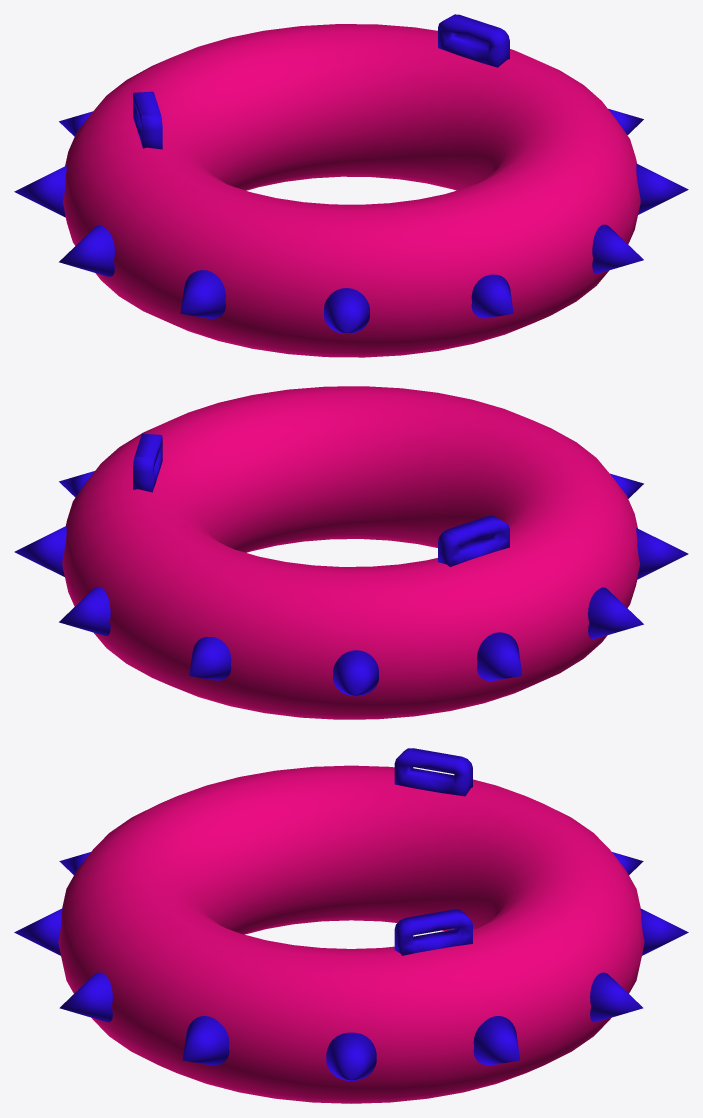
File: Boat.fbx
3 renders of one model, top to bottom at view 1: azimuth 30°, elevation 25°; view 2: azimuth 150°, elevation 25°; view 3: azimuth 270°, elevation 25°, orthographic.
Visible parts, largest first — view 1: Boat, Cube, Cone.001, Cone, Cone.002, Cone.009, Cone.011, Cube.001, Cone.003, Cone.008; view 2: Boat, Cube.001, Cone.003, Cone, Cone.004, Cone.005, Cone.010, Cube, Cone.001, Cone.006; view 3: Boat, Cube.001, Cube, Cone.007, Cone.006, Cone.008, Cone.005, Cone.009, Cone.010, Cone.011.
Boxes of the visible parts, x1,y1,x2,y2 form: Boat: (63, 24, 640, 357); Cube: (438, 14, 509, 67); Cone.001: (180, 270, 225, 318); Cone: (59, 225, 114, 276); Cone.002: (324, 288, 369, 333); Cone.009: (592, 224, 643, 273); Cone.011: (471, 274, 513, 318); Cube.001: (133, 91, 162, 149); Cone.003: (14, 165, 66, 217); Cone.008: (636, 164, 688, 214); Boat: (62, 386, 640, 719); Cube.001: (438, 515, 509, 566); Cone.003: (477, 632, 522, 681); Cone: (588, 587, 643, 638); Cone.004: (333, 650, 378, 696); Cone.005: (59, 587, 110, 636); Cone.010: (189, 637, 231, 680); Cube: (133, 433, 162, 492); Cone.001: (636, 528, 688, 579); Cone.006: (14, 526, 66, 576); Boat: (58, 765, 644, 1103); Cube.001: (394, 748, 472, 796); Cube: (394, 909, 472, 955); Cone.007: (326, 1032, 376, 1080); Cone.006: (473, 1016, 519, 1065); Cone.008: (183, 1016, 229, 1065); Cone.005: (590, 972, 643, 1022); Cone.009: (59, 972, 112, 1022); Cone.010: (640, 908, 688, 955); Cone.011: (14, 908, 62, 955).
Size of the model in its own units: 4.42 by 1.2 by 4.35.
